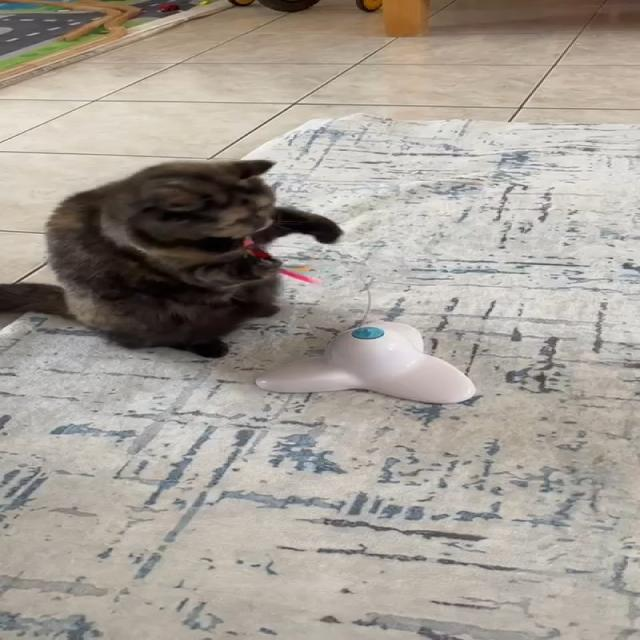authorized: (0, 158, 343, 359)
